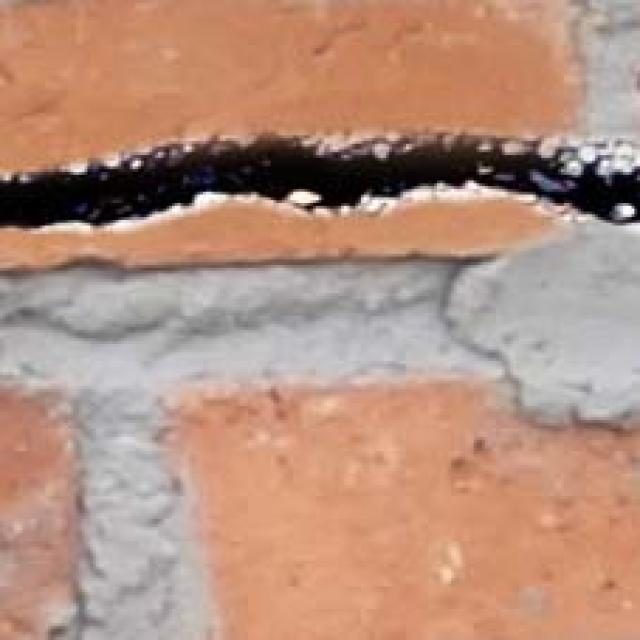Crack: (0, 119, 640, 289)
